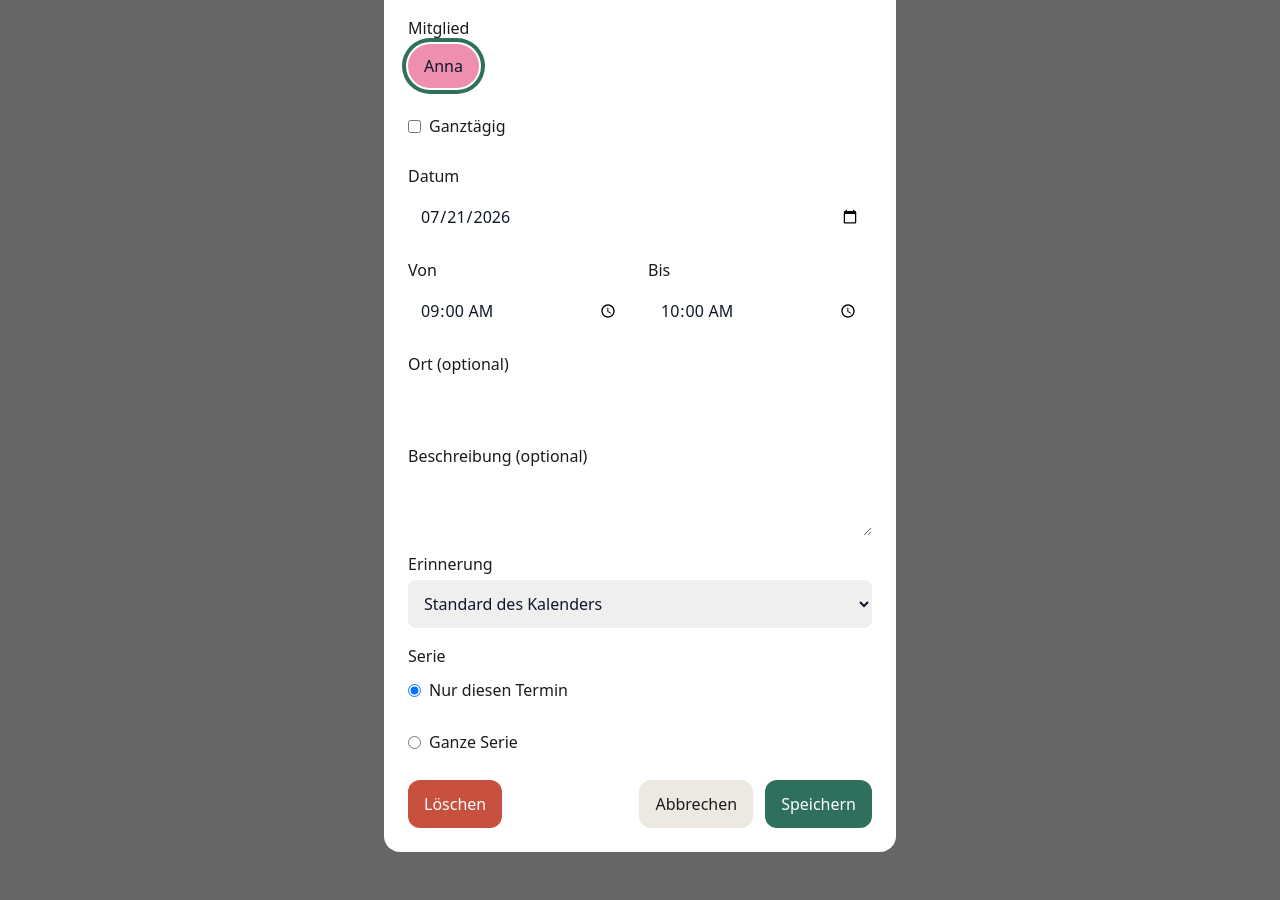
Test case: EventDialog (edit + delete) › shows a generic error when fetching the series fails with a non-Error rejection
The width and height of the screenshot is (1280, 900).
(page scrolled)
Click the radio button labelled "Ganze Serie".
click(414, 742)  # box [408, 736, 421, 748]
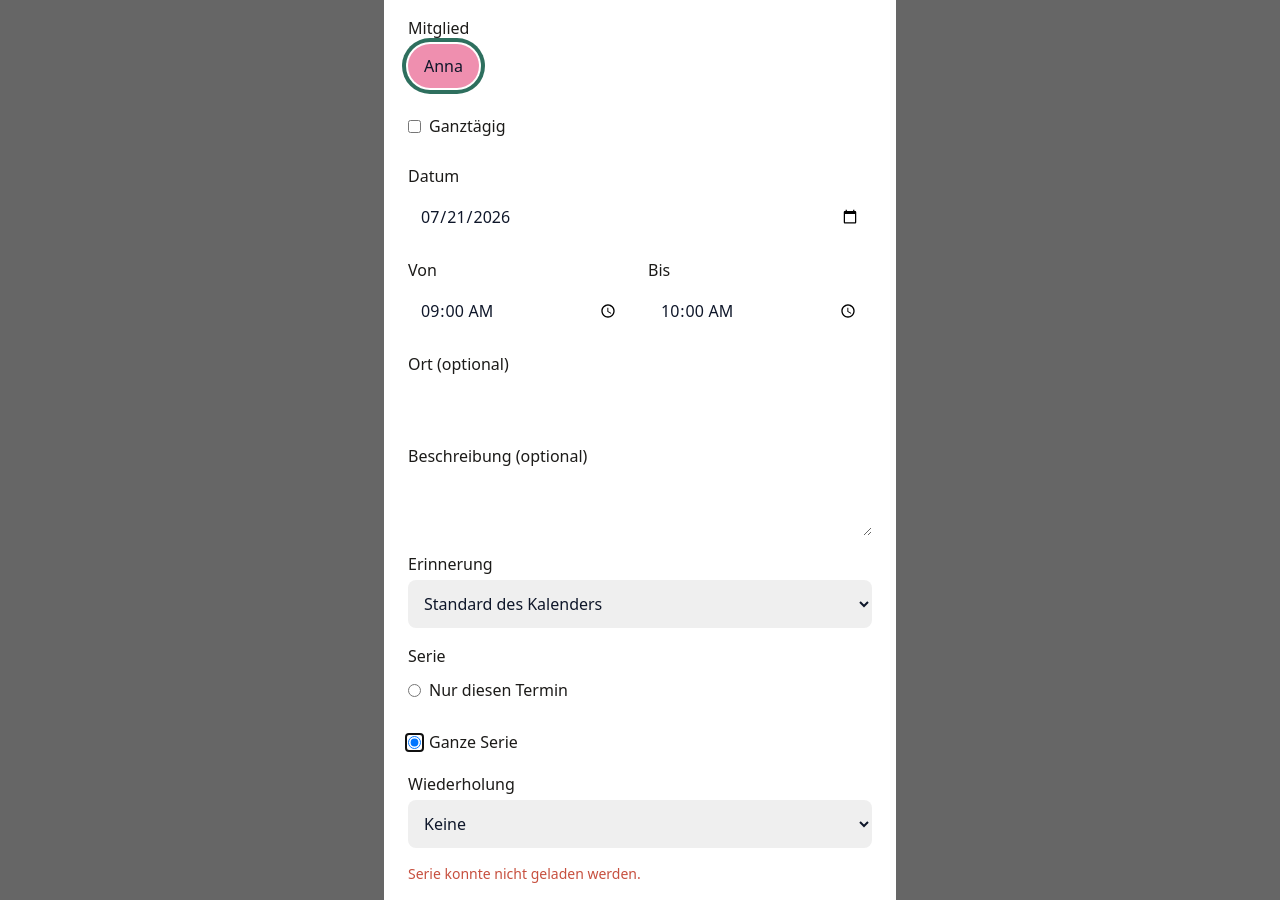
Expected: the text "Serie konnte nicht geladen werden." is shown, [408, 864, 641, 883]
